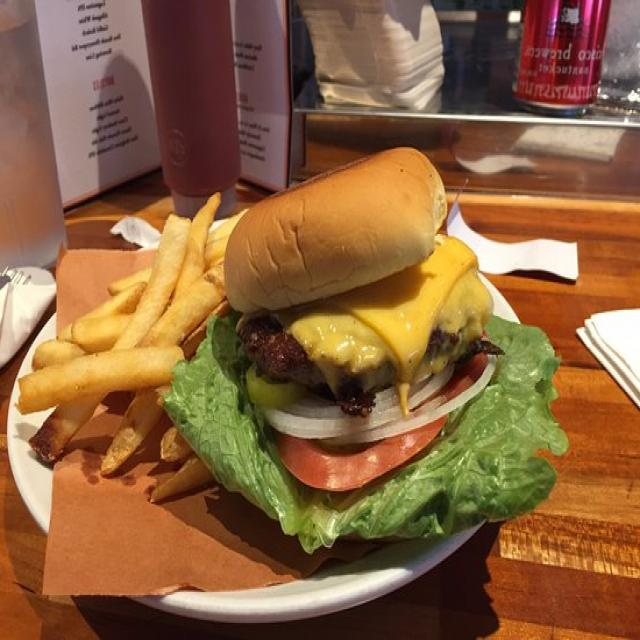Burger: (230, 141, 496, 507)
French Fries: (21, 205, 235, 490)
